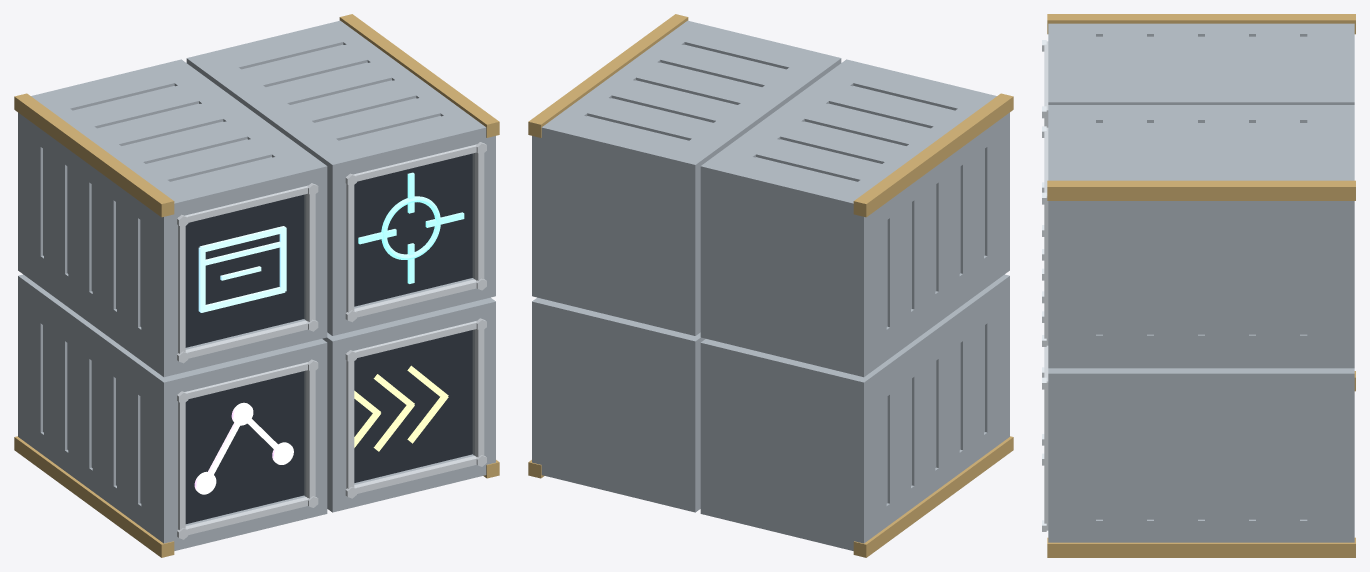
The model's file is stack_cube.glb.
The picture shows the model from 3 angles, left to right: view 1: azimuth 30°, elevation 25°; view 2: azimuth 150°, elevation 25°; view 3: azimuth 270°, elevation 25°; orthographic projection. The views are drawn at different scales.
Visible parts, largest first — view 1: CUBE / 01 body, CUBE / 03 body, CUBE / 02 body, CUBE / 03 plate, CUBE / 04 plate, CUBE / 02 plate, CUBE / 01 plate, CUBE / 04 body, CUBE / 01 brass guard, CUBE / 03 brass guard, CUBE / 02 brass guard, CUBE / 01 frame v.001 (+18 smaller); view 2: CUBE / 01 body, CUBE / 03 body, CUBE / 02 body, CUBE / 04 body, CUBE / 01 brass guard, CUBE / 03 brass guard, CUBE / 02 brass guard; view 3: CUBE / 02 body, CUBE / 04 body, CUBE / 01 body, CUBE / 02 brass guard, CUBE / 04 brass guard, CUBE / 01 brass guard, CUBE / 04 frame v.001, CUBE / 02 frame v.001.
Part boxes in pixels (x1=…): CUBE / 01 body: x1=18, y1=59, x2=327, y2=377; CUBE / 03 body: x1=18, y1=274, x2=327, y2=550; CUBE / 02 body: x1=186, y1=20, x2=495, y2=335; CUBE / 03 plate: x1=185, y1=371, x2=304, y2=523; CUBE / 04 plate: x1=354, y1=330, x2=472, y2=482; CUBE / 02 plate: x1=354, y1=153, x2=472, y2=306; CUBE / 01 plate: x1=185, y1=194, x2=304, y2=347; CUBE / 04 body: x1=322, y1=297, x2=495, y2=512; CUBE / 01 brass guard: x1=14, y1=93, x2=174, y2=217; CUBE / 03 brass guard: x1=14, y1=436, x2=174, y2=557; CUBE / 02 brass guard: x1=339, y1=14, x2=499, y2=137; CUBE / 01 frame v.001: x1=306, y1=193, x2=315, y2=321; CUBE / 01 body: x1=700, y1=59, x2=1009, y2=377; CUBE / 03 body: x1=700, y1=274, x2=1009, y2=550; CUBE / 02 body: x1=532, y1=20, x2=841, y2=335; CUBE / 04 body: x1=532, y1=297, x2=705, y2=512; CUBE / 01 brass guard: x1=853, y1=93, x2=1013, y2=217; CUBE / 03 brass guard: x1=853, y1=436, x2=1013, y2=557; CUBE / 02 brass guard: x1=528, y1=14, x2=688, y2=137; CUBE / 02 body: x1=1048, y1=105, x2=1354, y2=368; CUBE / 04 body: x1=1048, y1=368, x2=1354, y2=542; CUBE / 01 body: x1=1048, y1=23, x2=1354, y2=104; CUBE / 02 brass guard: x1=1047, y1=180, x2=1355, y2=200; CUBE / 04 brass guard: x1=1047, y1=537, x2=1355, y2=557; CUBE / 01 brass guard: x1=1047, y1=14, x2=1355, y2=34; CUBE / 04 frame v.001: x1=1044, y1=382, x2=1048, y2=530; CUBE / 02 frame v.001: x1=1044, y1=197, x2=1048, y2=345.
Size of the model in its own units: 2 by 2 by 1.54.
